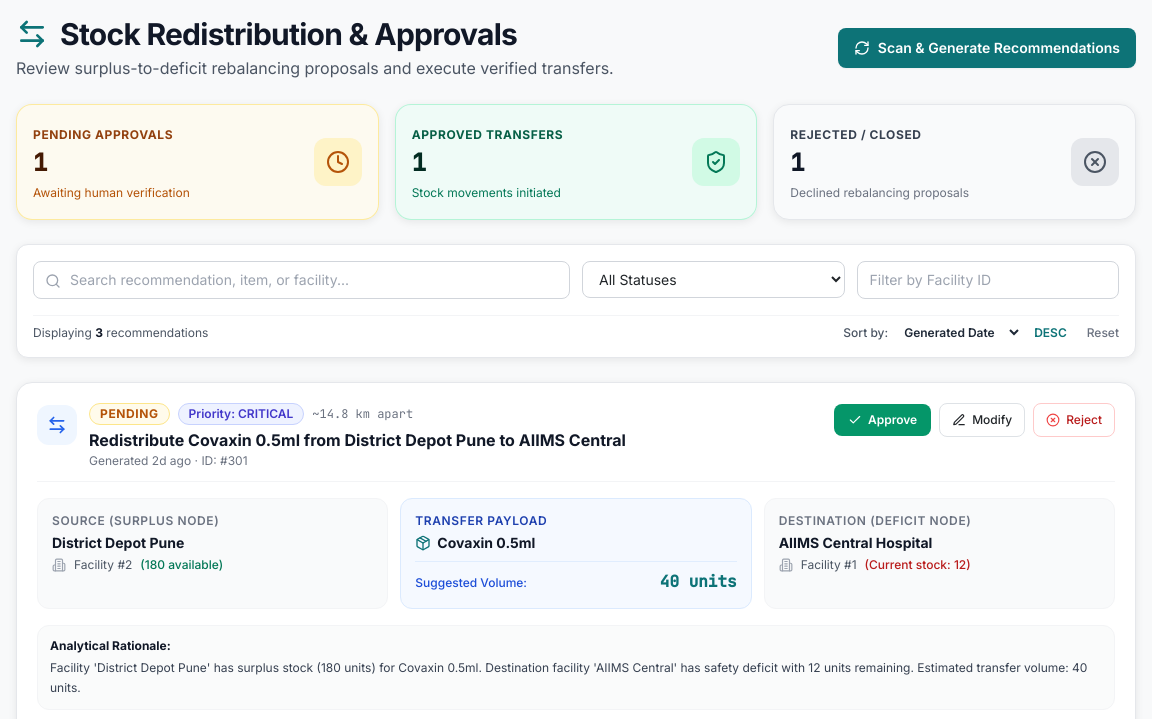
Test case: PHASE 23 — Redistribution & Approval Workflow › Approval Workflow & Confirmation Dialog › opens confirmation modal and executes approval upon confirmation
Click the button with test id "approve-btn-301".
click(882, 420)  # box x1=834 y1=404 x2=931 y2=436
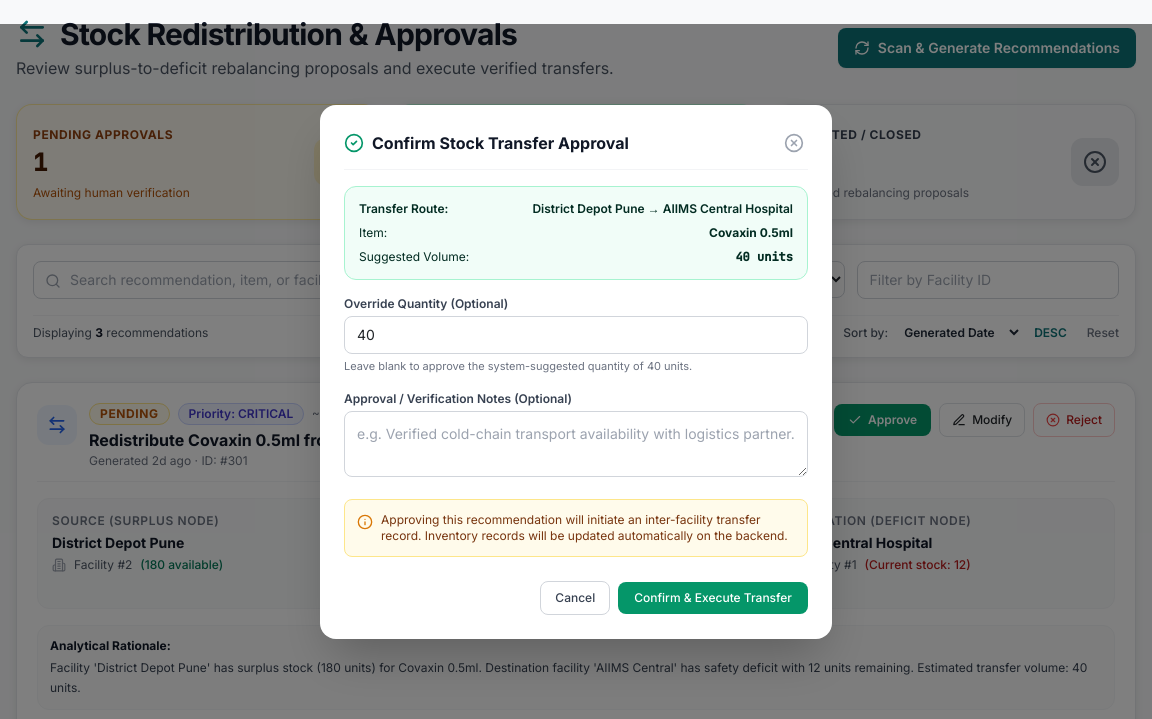
Expected: the heading "Confirm Stock Transfer Approval" is shown, x1=344 y1=131 x2=629 y2=155
Expected: the text "District Depot Pune → AIIMS Central Hospital" is shown, x1=532 y1=201 x2=793 y2=217
Replace the text in the number field with test id "approval-override-qty" with "35" at (576, 335), box x1=344 y1=316 x2=808 y2=354
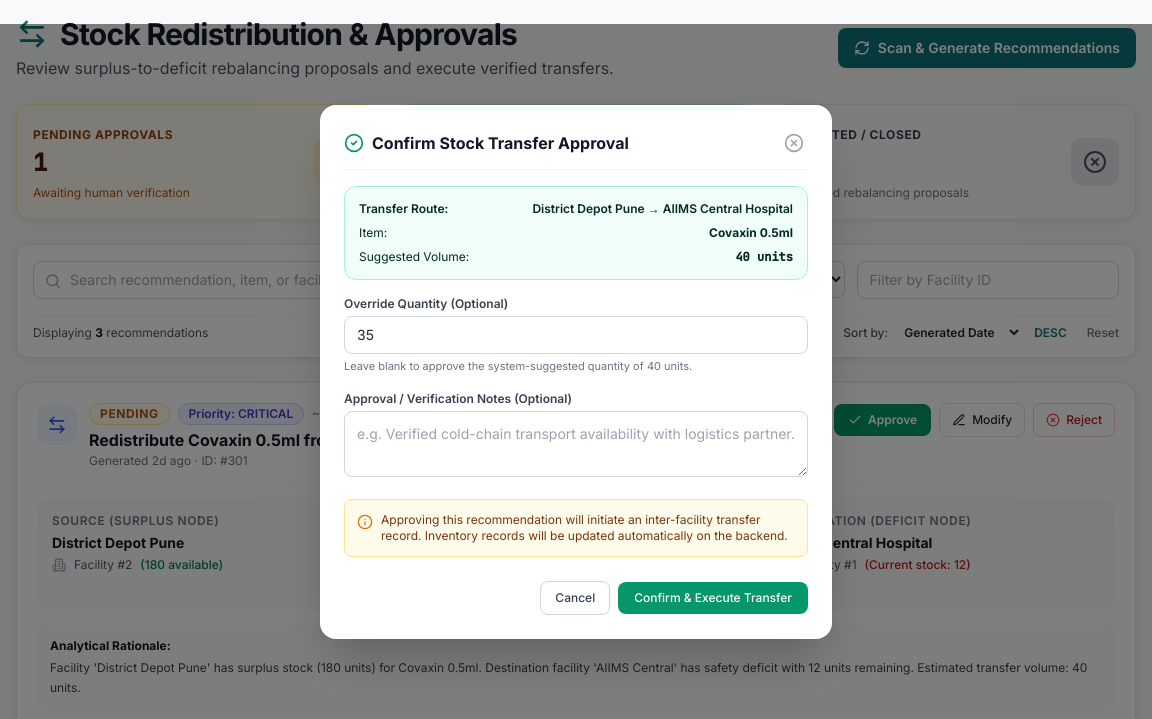
Replace the text in the text box with test id "approval-notes-input" with "Verified cold chain truck." at (576, 444), box x1=344 y1=411 x2=808 y2=477
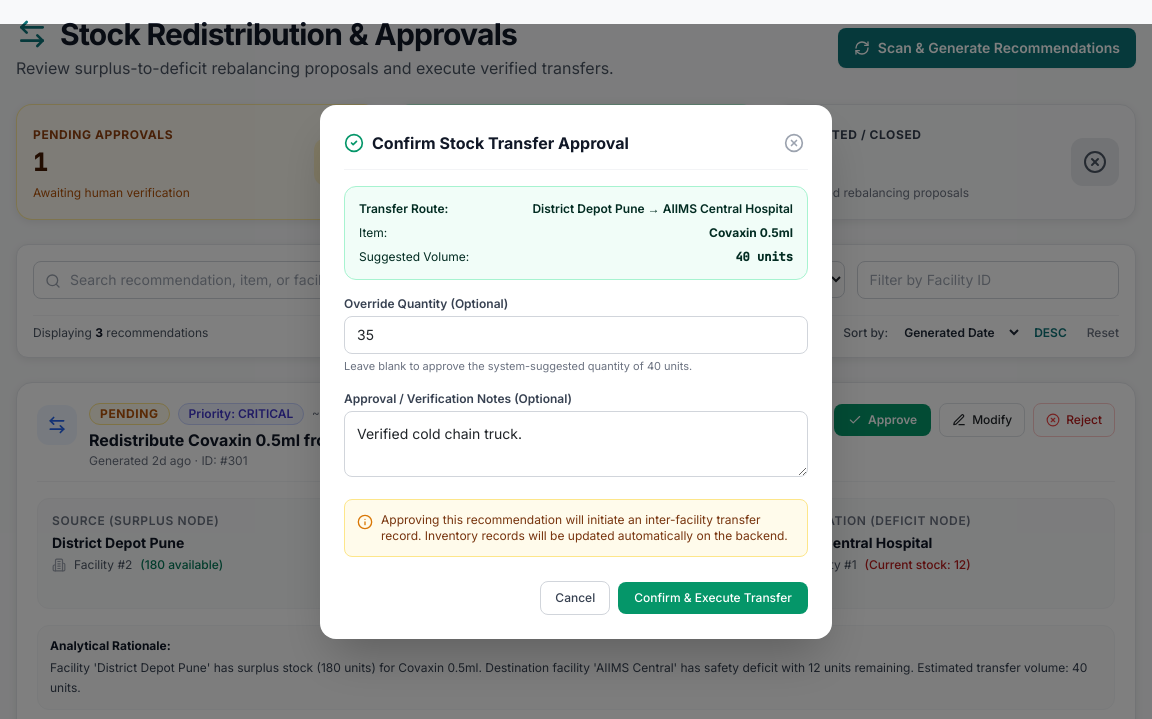
// Click Confirm & Execute Transfer
Click the button with test id "confirm-approval-submit".
click(713, 598)  # box x1=618 y1=582 x2=808 y2=614
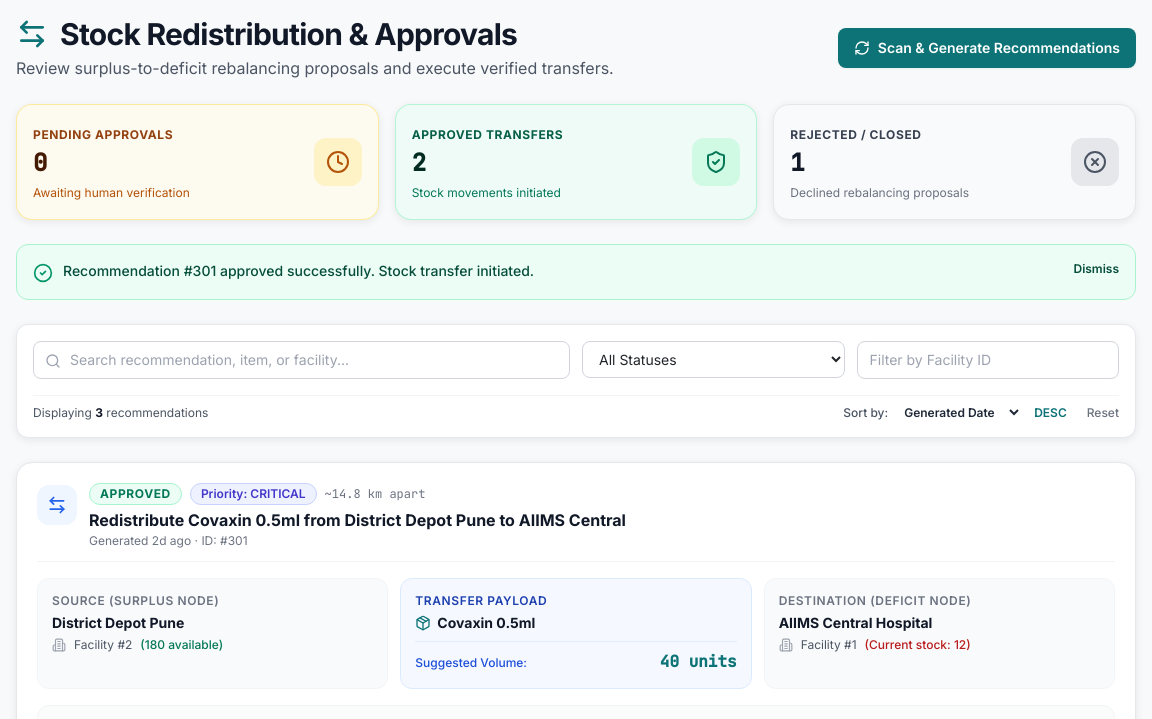
Expected: the element with test id "action-feedback-banner" shows "approved successfully", x1=63 y1=262 x2=534 y2=279
